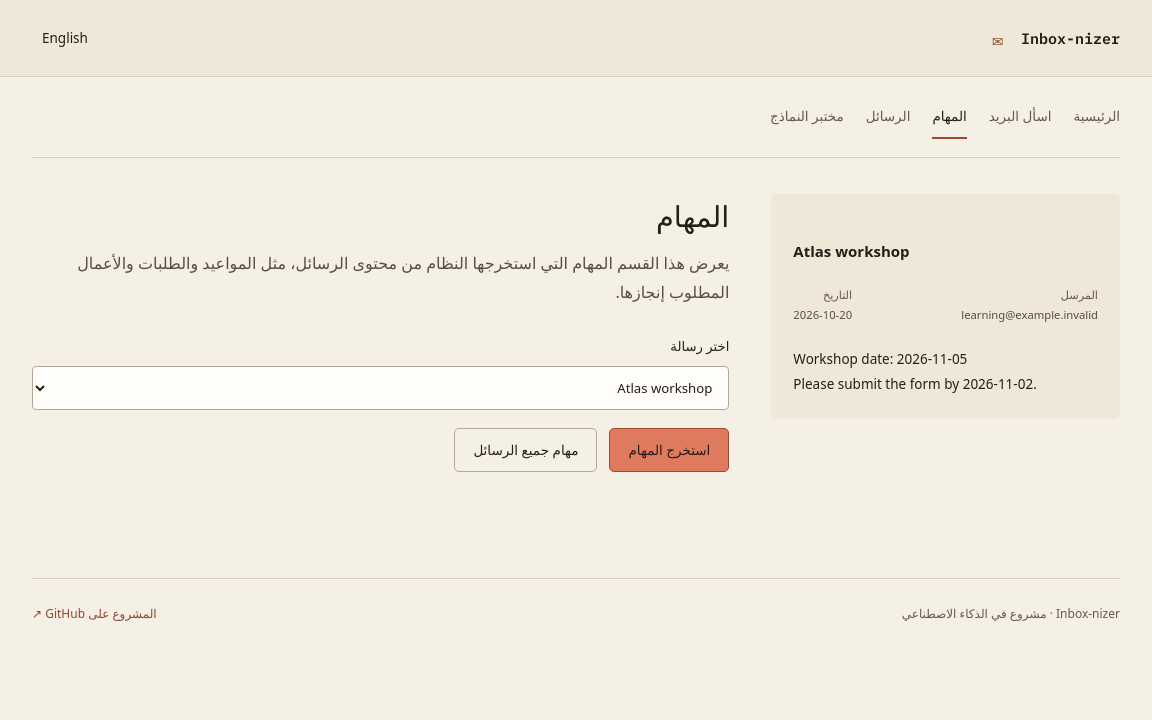
Test: missing or conditional task deadlines are not invented or hidden
Click the button with aria-label "Switch to English" at (65,38), box [32, 16, 98, 60]
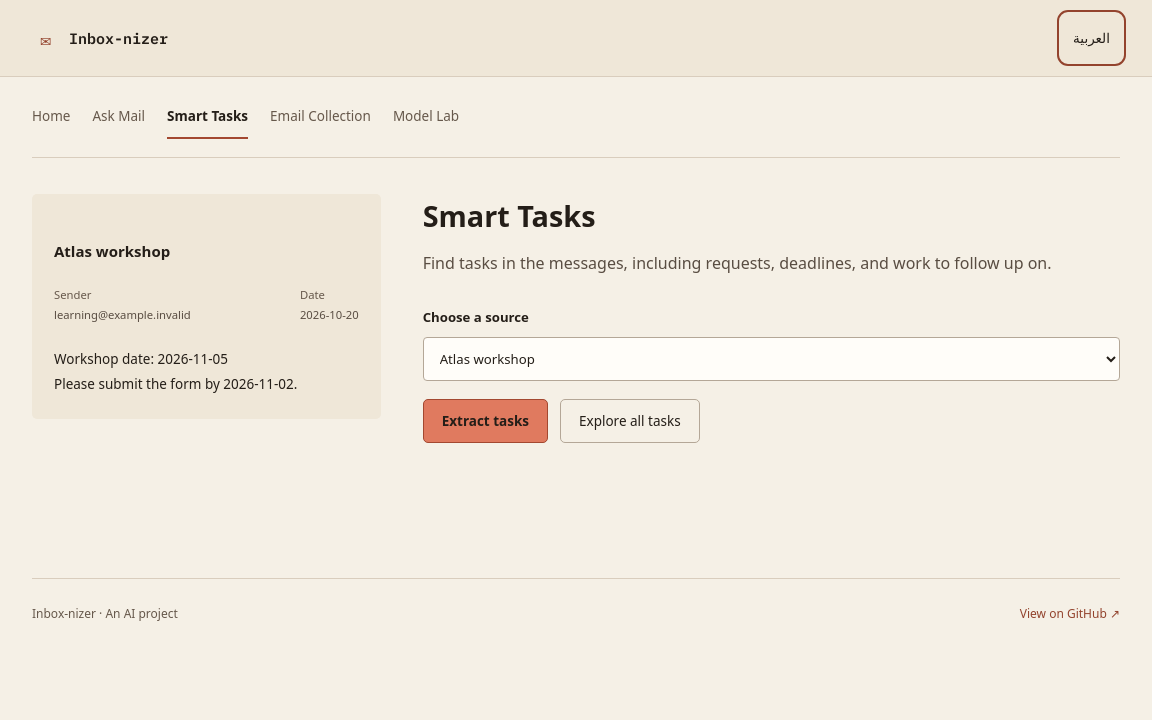
Check: the dropdown labelled "Choose a source" is shown, box [423, 337, 1120, 381]
Click the button "Extract tasks" at (485,421), box [423, 399, 548, 443]
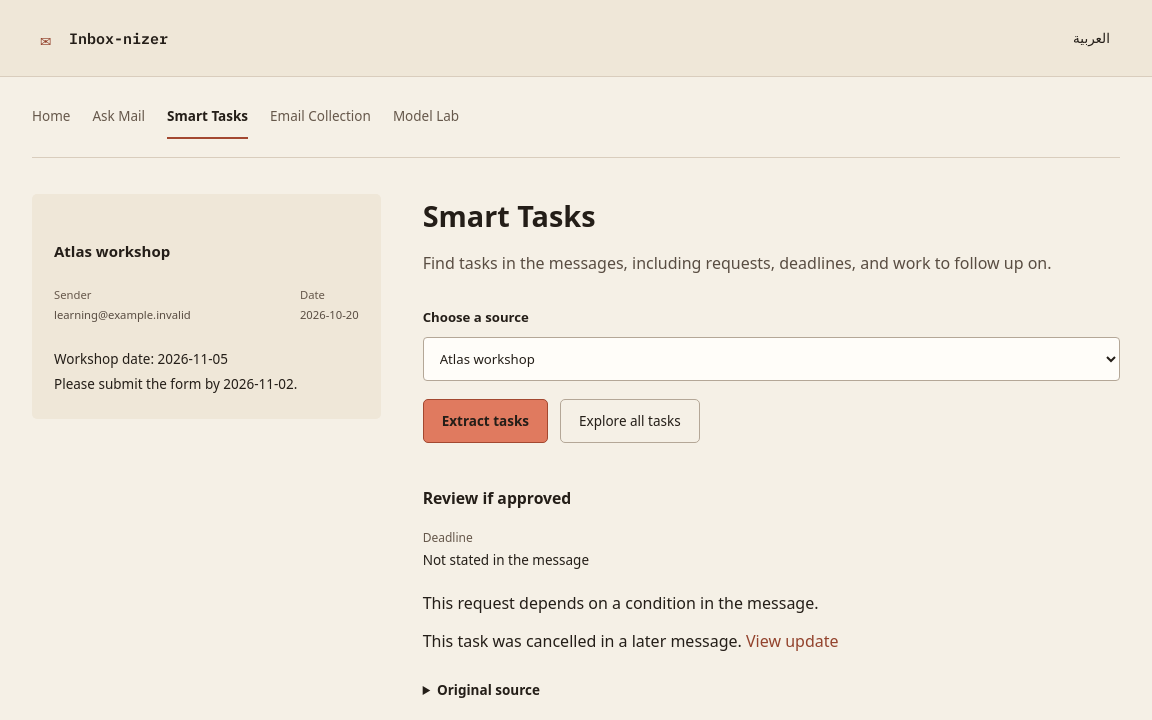
Check: the text "Not stated in the message" is shown, box [423, 548, 589, 573]
Check: the text "This request depends on a condition in the message." is shown, box [423, 592, 819, 614]
Check: the text "This task was cancelled in a later message. View update" is shown, box [423, 630, 839, 652]
